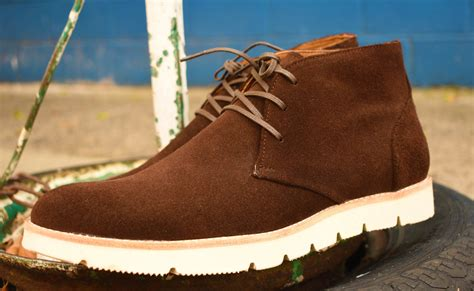gamuza: (31, 32, 430, 242)
